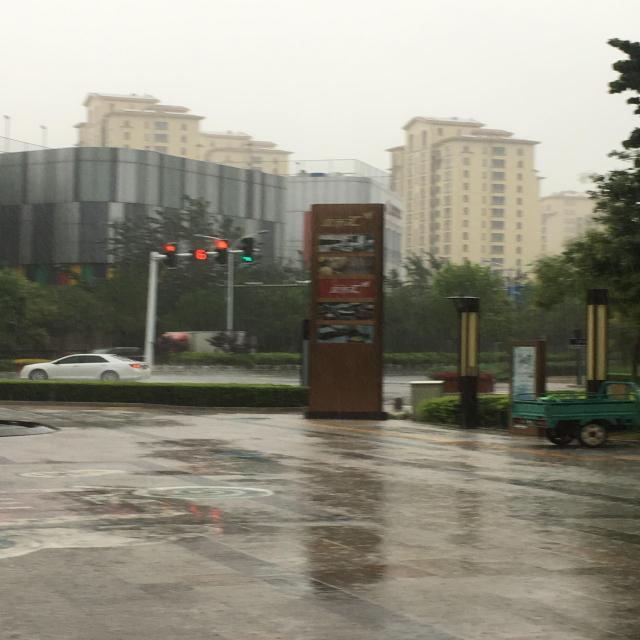car: (21, 352, 148, 385), (96, 346, 158, 362)
